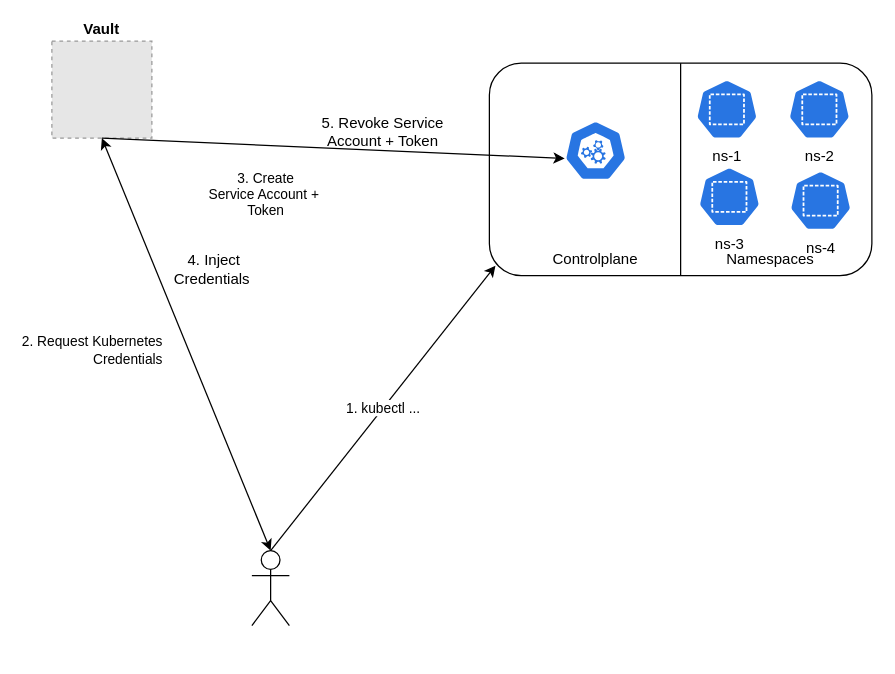
Some shapes in this 895 by 674 pixel diagram are drawn without their labels. Grey dashed boxes stand in for pictures. The shapes that lost their labels are listed below. From the top down, each one's box as (x1, y1, x2, y2) in pixels, then its label:
(563, 119, 627, 181): kube-apiserver
(488, 62, 872, 276): Kubernetes
(251, 549, 289, 626): User
